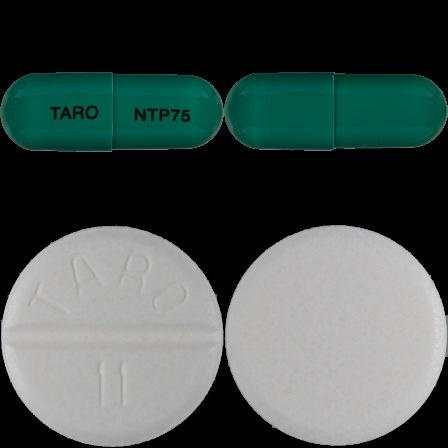51672-4004: (0, 0, 224, 224)
